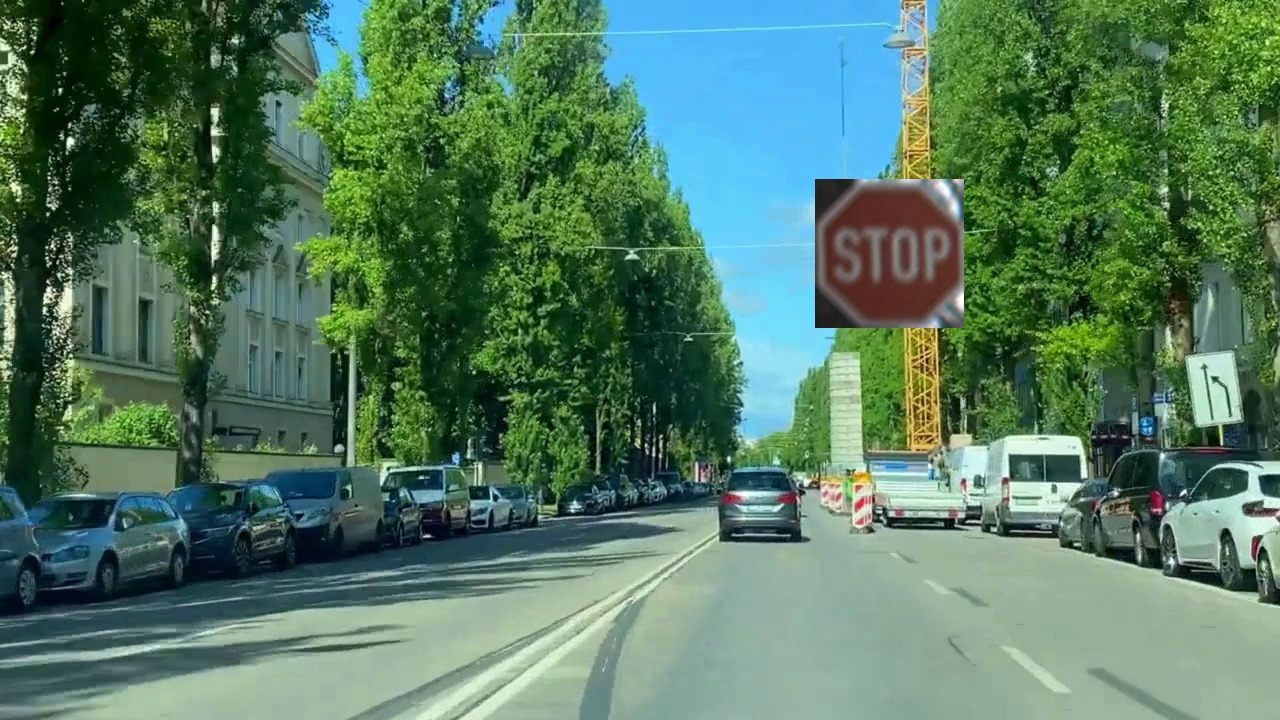Stop: (815, 179, 964, 328)
